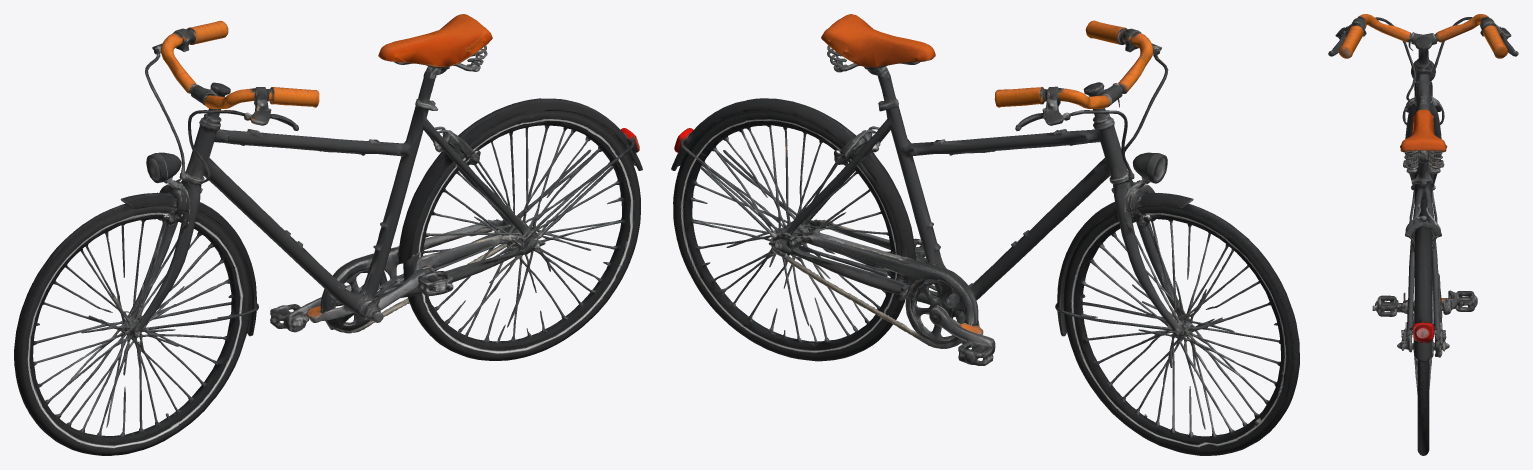
File: bicycle.glb
3 renders of one model, left to right at view 1: azimuth 30°, elevation 25°; view 2: azimuth 150°, elevation 25°; view 3: azimuth 270°, elevation 25°, orthographic. The views are drawn at different scales.
Visible parts, largest first — view 1: mesh_node; view 2: mesh_node; view 3: mesh_node.
Part boxes in pixels (<box>): mesh_node: <box>14,14,642,455</box>; mesh_node: <box>671,14,1299,455</box>; mesh_node: <box>1328,14,1518,455</box>.
Bounding box in the file's own units: 1.9 × 1.08 × 0.6097.
1 material, 1 textured.
